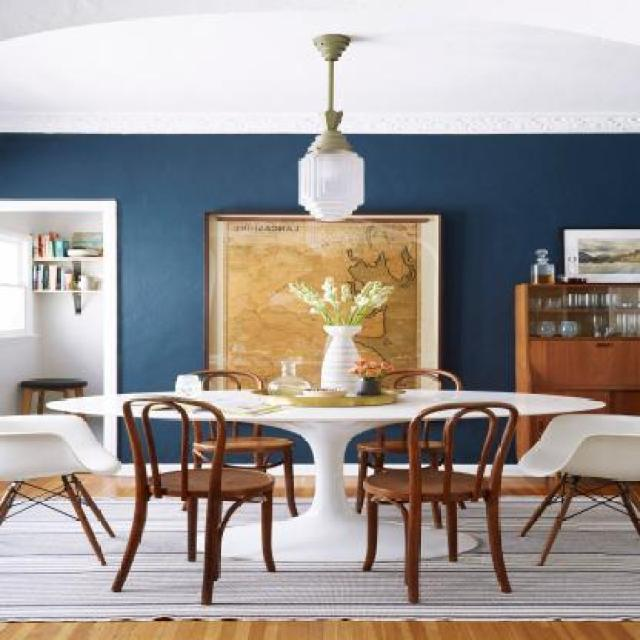floor: (2, 473, 416, 640), (416, 494, 640, 640), (0, 614, 425, 640), (11, 478, 77, 526), (567, 484, 630, 522), (460, 508, 490, 567), (501, 477, 551, 505), (273, 478, 292, 519), (234, 501, 263, 525), (295, 475, 318, 495), (344, 469, 359, 497), (382, 505, 405, 523), (0, 479, 13, 504), (422, 508, 434, 526), (296, 497, 311, 511)
